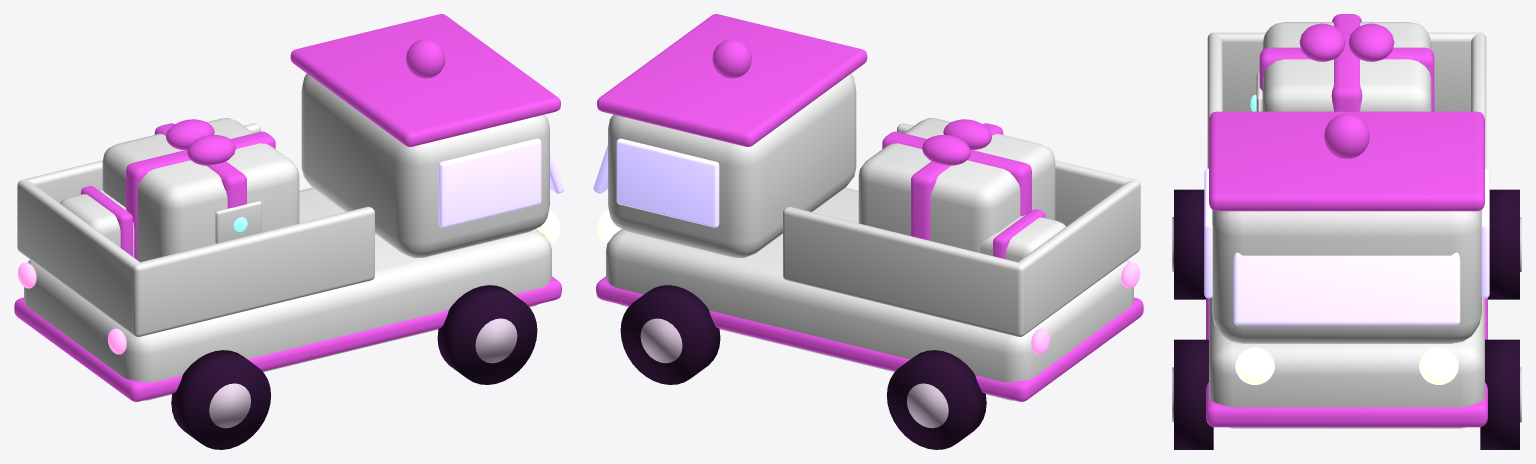
The model's file is cart.glb.
3 renders of one model, left to right at view 1: azimuth 30°, elevation 25°; view 2: azimuth 150°, elevation 25°; view 3: azimuth 270°, elevation 25°, orthographic. The views are drawn at different scales.
Parts seen in each view (by area): view 1: Chassis, Cab, CabRoof, BayWall-1, ParcelBox, BayBack, SideWindow-1, Skirt, Wheel3, Wheel1, BayWall1, RibbonB (+9 smaller); view 2: Chassis, Cab, CabRoof, BayWall1, ParcelBox, BayBack, SideWindow1, Skirt, Wheel2, Wheel0, BayWall-1, RibbonA (+8 smaller); view 3: CabRoof, Cab, Chassis, Windshield, ParcelBox, Skirt, BayBack, Wheel0, Wheel1, Wheel2, Wheel3, RibbonB (+10 smaller).
Boxes of the visible parts, box(x1,y1,x2,y2) form: Chassis: box(24, 187, 551, 400); Cab: box(301, 73, 549, 257); CabRoof: box(290, 14, 560, 146); BayWall-1: box(132, 206, 374, 336); ParcelBox: box(102, 118, 299, 262); BayBack: box(18, 180, 139, 334); SideWindow-1: box(438, 138, 541, 227); Skirt: box(14, 276, 561, 401); Wheel3: box(171, 350, 270, 449); Wheel1: box(437, 285, 537, 384); BayWall1: box(17, 123, 260, 251); RibbonB: box(126, 131, 275, 259); Chassis: box(606, 187, 1133, 400); Cab: box(608, 73, 856, 257); CabRoof: box(597, 14, 867, 146); BayWall1: box(783, 206, 1025, 336); ParcelBox: box(858, 118, 1055, 252); BayBack: box(1018, 180, 1139, 334); SideWindow1: box(616, 138, 719, 227); Skirt: box(596, 276, 1143, 401); Wheel2: box(887, 350, 986, 449); Wheel0: box(620, 285, 720, 384); BayWall-1: box(897, 123, 1140, 251); RibbonA: box(911, 123, 1003, 240); CabRoof: box(1209, 111, 1484, 211); Cab: box(1212, 210, 1481, 343); Chassis: box(1209, 298, 1484, 428); Windshield: box(1233, 252, 1460, 325); ParcelBox: box(1262, 22, 1431, 111); Skirt: box(1206, 297, 1487, 427); BayBack: box(1215, 32, 1478, 111); Wheel0: box(1480, 339, 1519, 449); Wheel1: box(1174, 339, 1213, 449); Wheel2: box(1488, 189, 1519, 299); Wheel3: box(1174, 189, 1205, 299); RibbonB: box(1331, 14, 1362, 111).
Bounding box in the file's own units: 1.97 × 1.2 × 1.14.
